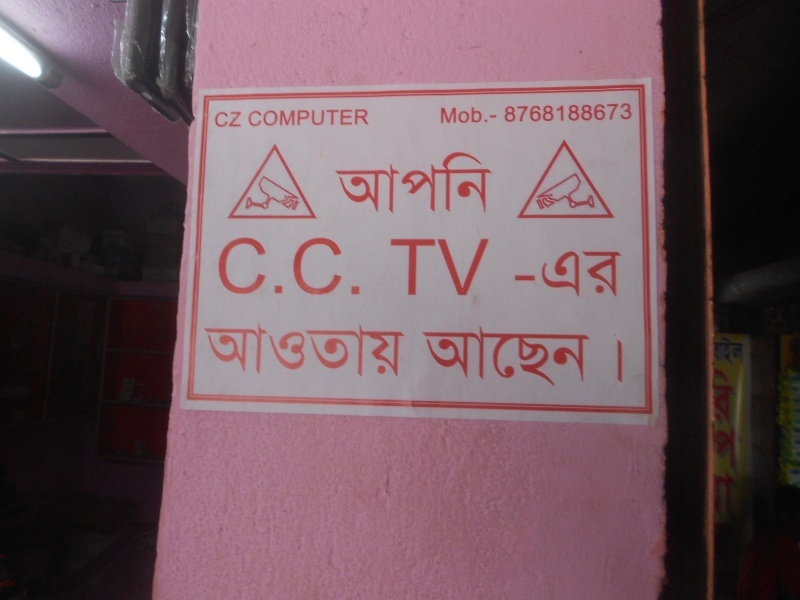text: (721, 363, 736, 522), (710, 363, 720, 522), (433, 324, 448, 387), (449, 324, 464, 387), (465, 324, 480, 387), (481, 324, 496, 387), (497, 324, 512, 387), (513, 324, 528, 387), (529, 324, 544, 387), (545, 324, 560, 387), (561, 324, 576, 387), (337, 152, 352, 214), (353, 152, 368, 214), (369, 152, 384, 214), (385, 152, 400, 214), (401, 152, 416, 214), (417, 152, 432, 214), (433, 152, 448, 214), (449, 152, 464, 214), (465, 152, 480, 214), (225, 236, 240, 297), (241, 236, 256, 297), (257, 236, 272, 297), (273, 236, 288, 297), (289, 236, 304, 297), (305, 236, 320, 297), (321, 236, 336, 297), (337, 236, 352, 297), (577, 324, 591, 387), (401, 239, 416, 297), (417, 239, 432, 297), (433, 239, 448, 297), (449, 239, 464, 297), (465, 239, 480, 297), (209, 320, 224, 377), (225, 320, 240, 377), (241, 320, 256, 377), (257, 320, 272, 377), (273, 320, 288, 377), (289, 320, 304, 377), (305, 320, 320, 377), (321, 320, 336, 377), (337, 320, 352, 377), (353, 320, 368, 377), (369, 320, 384, 377), (385, 320, 400, 377), (481, 152, 493, 214), (529, 251, 544, 300), (545, 251, 560, 300), (561, 251, 576, 300), (577, 251, 592, 300), (593, 251, 608, 300), (609, 251, 624, 300), (421, 324, 432, 387), (389, 239, 400, 297), (515, 251, 528, 300), (737, 363, 740, 522), (481, 239, 489, 297), (721, 334, 736, 364), (353, 236, 359, 297), (202, 320, 208, 377), (219, 236, 224, 297), (513, 104, 528, 124), (529, 104, 544, 124), (545, 104, 560, 124), (561, 104, 576, 124), (577, 104, 592, 124), (593, 104, 608, 124), (609, 104, 624, 124), (401, 320, 406, 377), (257, 109, 272, 128), (273, 109, 288, 128), (289, 109, 304, 128), (305, 109, 320, 128), (321, 109, 336, 128), (337, 109, 352, 128), (353, 109, 368, 128), (449, 106, 464, 125), (465, 106, 480, 125), (481, 106, 496, 125), (618, 340, 624, 385), (225, 111, 240, 128), (737, 334, 745, 364), (504, 104, 512, 124), (625, 104, 633, 124), (440, 106, 448, 125), (715, 334, 720, 364), (216, 111, 224, 128), (249, 109, 256, 128), (335, 152, 336, 214), (369, 109, 370, 128), (497, 106, 498, 125), (241, 111, 242, 128)
